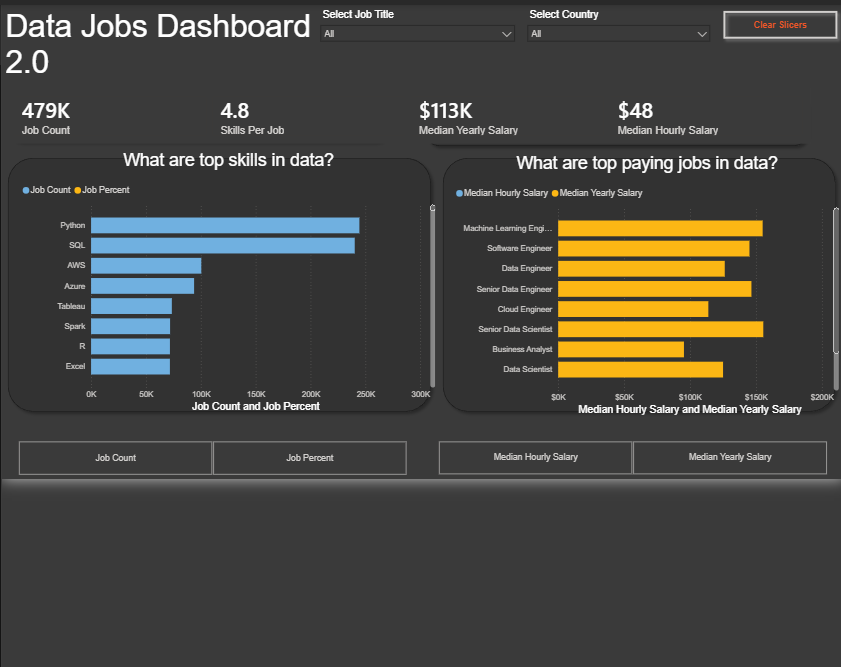

The dashboard page shown, as its layout file describes it:
{"tool":"powerbi","page":{"name":"Data Jobs Dashboard","canvas":[1280,720],"ordinal":0},"visuals":[{"type":"group","id":"g1","title":"Background","box":[0,104.4,1281.2,617.4],"z":0},{"type":"shape","box":[7.2,104.4,466.6,93.3],"z":0,"group":"g1"},{"type":"textSlicer","fields":{"Values":["job_postings_flat.job_title_short"]},"box":[569.5,0,367.7,91.1],"z":1000},{"type":"shape","box":[613.7,108,491.7,86.1],"z":1000,"group":"g1"},{"type":"textbox","box":[0,0,550,91.1],"z":2000},{"type":"shape","box":[0,226.5,678.3,236.9],"z":2000,"group":"g1"},{"type":"cardVisual","fields":{"Data":["CountNonNull(job_postings_flat.job_title_short)"]},"box":[8.1,105.2,272.8,100.5],"z":3000},{"type":"shape","box":[696.2,492,585,226.1],"z":3000,"group":"g1"},{"type":"cardVisual","fields":{"Data":["job_postings_flat.salary_star_rating"]},"box":[273.9,101.5,200.4,91.3],"z":4000},{"type":"shape","box":[0,484.9,678.3,236.9],"z":4000,"group":"g1"},{"type":"cardVisual","fields":{"Data":["Median(job_postings_flat.salary_year_avg)"]},"box":[622.9,99.8,236.9,100.5],"z":5000},{"type":"shape","box":[695.7,230.5,584.3,234.5],"z":5000,"group":"g1"},{"type":"cardVisual","fields":{"Data":["Median(job_postings_flat.salary_hour_avg)"]},"box":[913.1,104,192.8,88.8],"z":6000},{"type":"lineChart","title":"WHAT IS THE TREND OF JOBS IN 2024?","fields":{"Y":["CountNonNull(job_postings_flat.job_title_short)"],"Category":["job_postings_flat.job_posted_date.Variation.Date Hierarchy.Year","job_postings_flat.job_posted_date.Variation.Date Hierarchy.Quarter","job_postings_flat.job_posted_date.Variation.Date Hierarchy.Month","job_postings_flat.job_posted_date.Variation.Date Hierarchy.Day"]},"box":[37.8,245.4,585.2,204.9],"z":7000},{"type":"barChart","title":"What is the highest paying job in data?","fields":{"Category":["job_postings_flat.job_title_short"],"Y":["CountNonNull(job_postings_flat.job_title_short)"]},"box":[62,490.8,577.1,226.5],"z":8000},{"type":"scatterChart","title":"Hourly vs Yearly Average Salary of Data Jobs","fields":{"X":["Median(job_postings_flat.salary_year_avg)"],"Y":["Median(job_postings_flat.salary_hour_avg)"],"Series":["job_postings_flat.job_title_short"]},"box":[752.4,245.4,474.6,204.9],"z":9000},{"type":"pivotTable","fields":{"Rows":["job_postings_flat.job_title_short","job_postings_flat.job_posted_date.Variation.Date Hierarchy.Quarter"],"Values":["Median(job_postings_flat.salary_year_avg)","CountNonNull(job_postings_flat.job_title_short)","Median(job_postings_flat.salary_hour_avg)","SparklineData(CountNonNull(job_postings_flat.job_title_short)_[job_postings_flat.job_posted_date.Variation.Date Hierarch"]},"box":[714.6,509.7,566.3,207.6],"z":10000},{"type":"actionButton","box":[937.2,22.8,341.7,68.3],"z":11000}]}

Visuals, with their boxes on the page's 1280x720 design canvas (x1, y1, x2, y2). These are canvas units, not pixel positions in the 841x667 screenshot, which may show the page scaled, cropped or inside an application window:
"Background" group: (x1=0, y1=104, x2=1281, y2=722)
shape: (x1=7, y1=104, x2=474, y2=198)
textSlicer - job_postings_flat.job_title_short: (x1=570, y1=0, x2=937, y2=91)
shape: (x1=614, y1=108, x2=1105, y2=194)
textbox: (x1=0, y1=0, x2=550, y2=91)
shape: (x1=0, y1=226, x2=678, y2=463)
cardVisual - CountNonNull(job_postings_flat.job_title_short): (x1=8, y1=105, x2=281, y2=206)
shape: (x1=696, y1=492, x2=1281, y2=718)
cardVisual - job_postings_flat.salary_star_rating: (x1=274, y1=102, x2=474, y2=193)
shape: (x1=0, y1=485, x2=678, y2=722)
cardVisual - Median(job_postings_flat.salary_year_avg): (x1=623, y1=100, x2=860, y2=200)
shape: (x1=696, y1=230, x2=1280, y2=465)
cardVisual - Median(job_postings_flat.salary_hour_avg): (x1=913, y1=104, x2=1106, y2=193)
"WHAT IS THE TREND OF JOBS IN 2024?" lineChart: (x1=38, y1=245, x2=623, y2=450)
"What is the highest paying job in data?" barChart: (x1=62, y1=491, x2=639, y2=717)
"Hourly vs Yearly Average Salary of Data Jobs" scatterChart: (x1=752, y1=245, x2=1227, y2=450)
pivotTable - job_postings_flat.job_title_short x job_postings_flat.job_posted_date.Variation.Date Hierarchy.Quarter: (x1=715, y1=510, x2=1281, y2=717)
actionButton: (x1=937, y1=23, x2=1279, y2=91)
